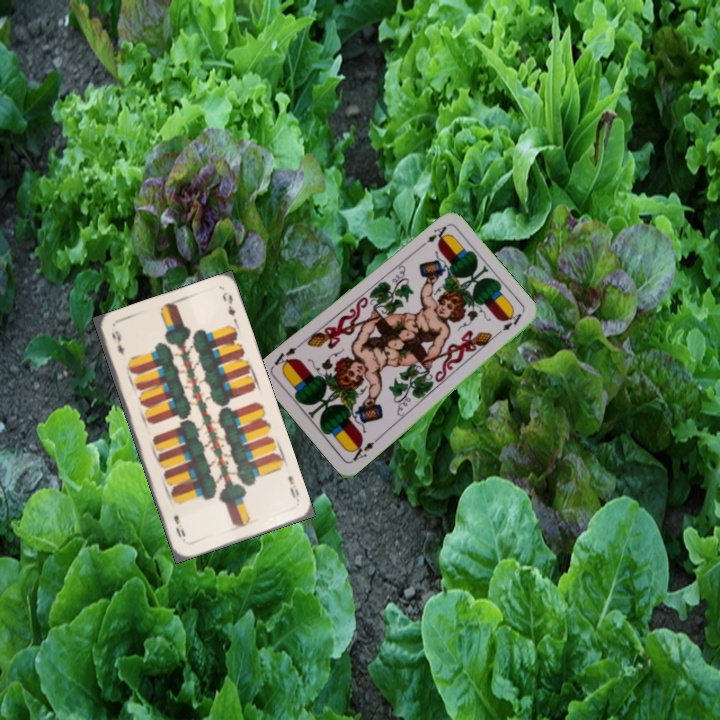E9: (283, 471, 302, 506), (107, 327, 127, 358)
EA: (346, 434, 382, 464), (415, 222, 449, 252)
